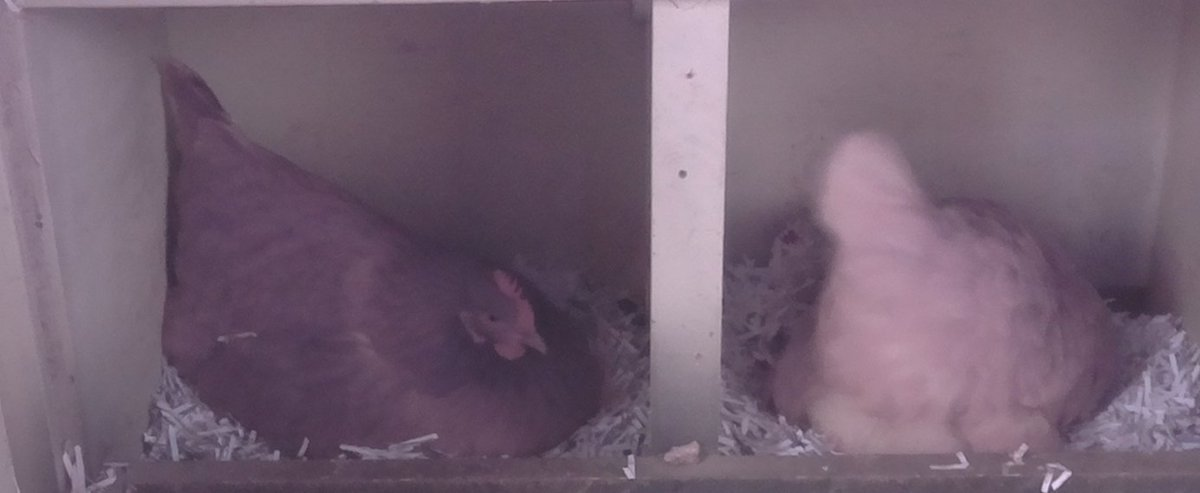hen: (139, 50, 608, 460), (760, 121, 1146, 450)
